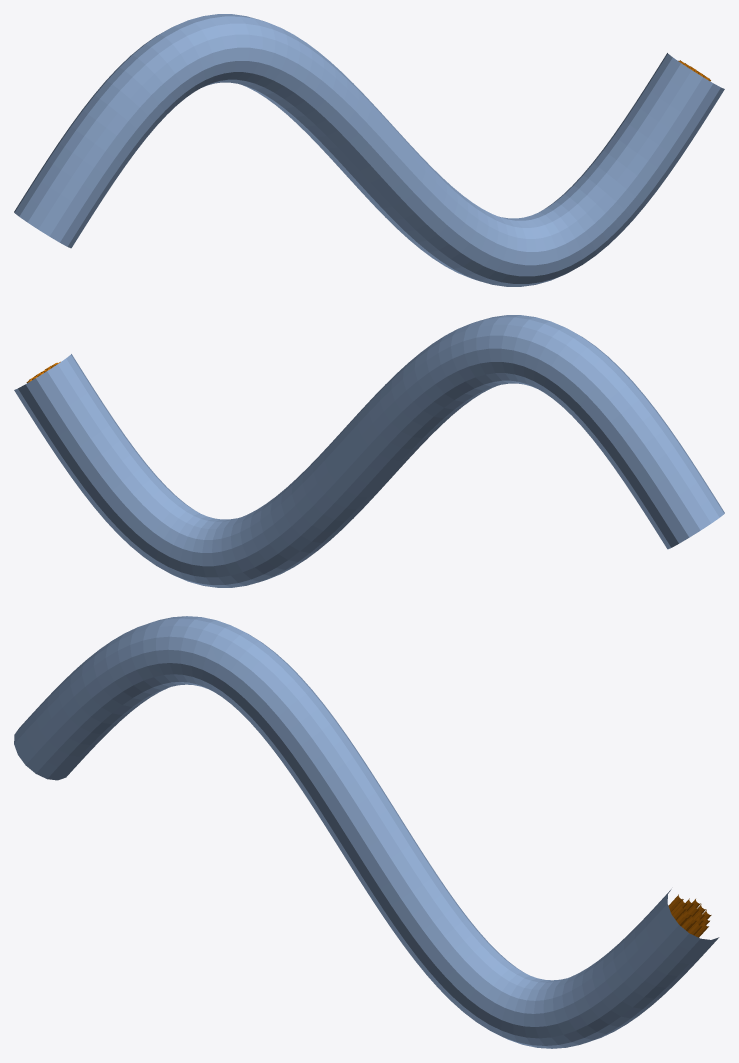
The model's file is 2_curved.glb.
3 views of the same model, one above another, from view 1: azimuth 30°, elevation 25°; view 2: azimuth 150°, elevation 25°; view 3: azimuth 330°, elevation 25° (orthographic).
Visible parts, largest first — view 1: world; view 2: world; view 3: world.
Boxes of the visible parts, x1=… form: world: x1=14, y1=14, x2=724, y2=286; world: x1=14, y1=315, x2=724, y2=587; world: x1=14, y1=616, x2=719, y2=1048.
Bounding box in the file's own units: 236 × 110 × 20.
